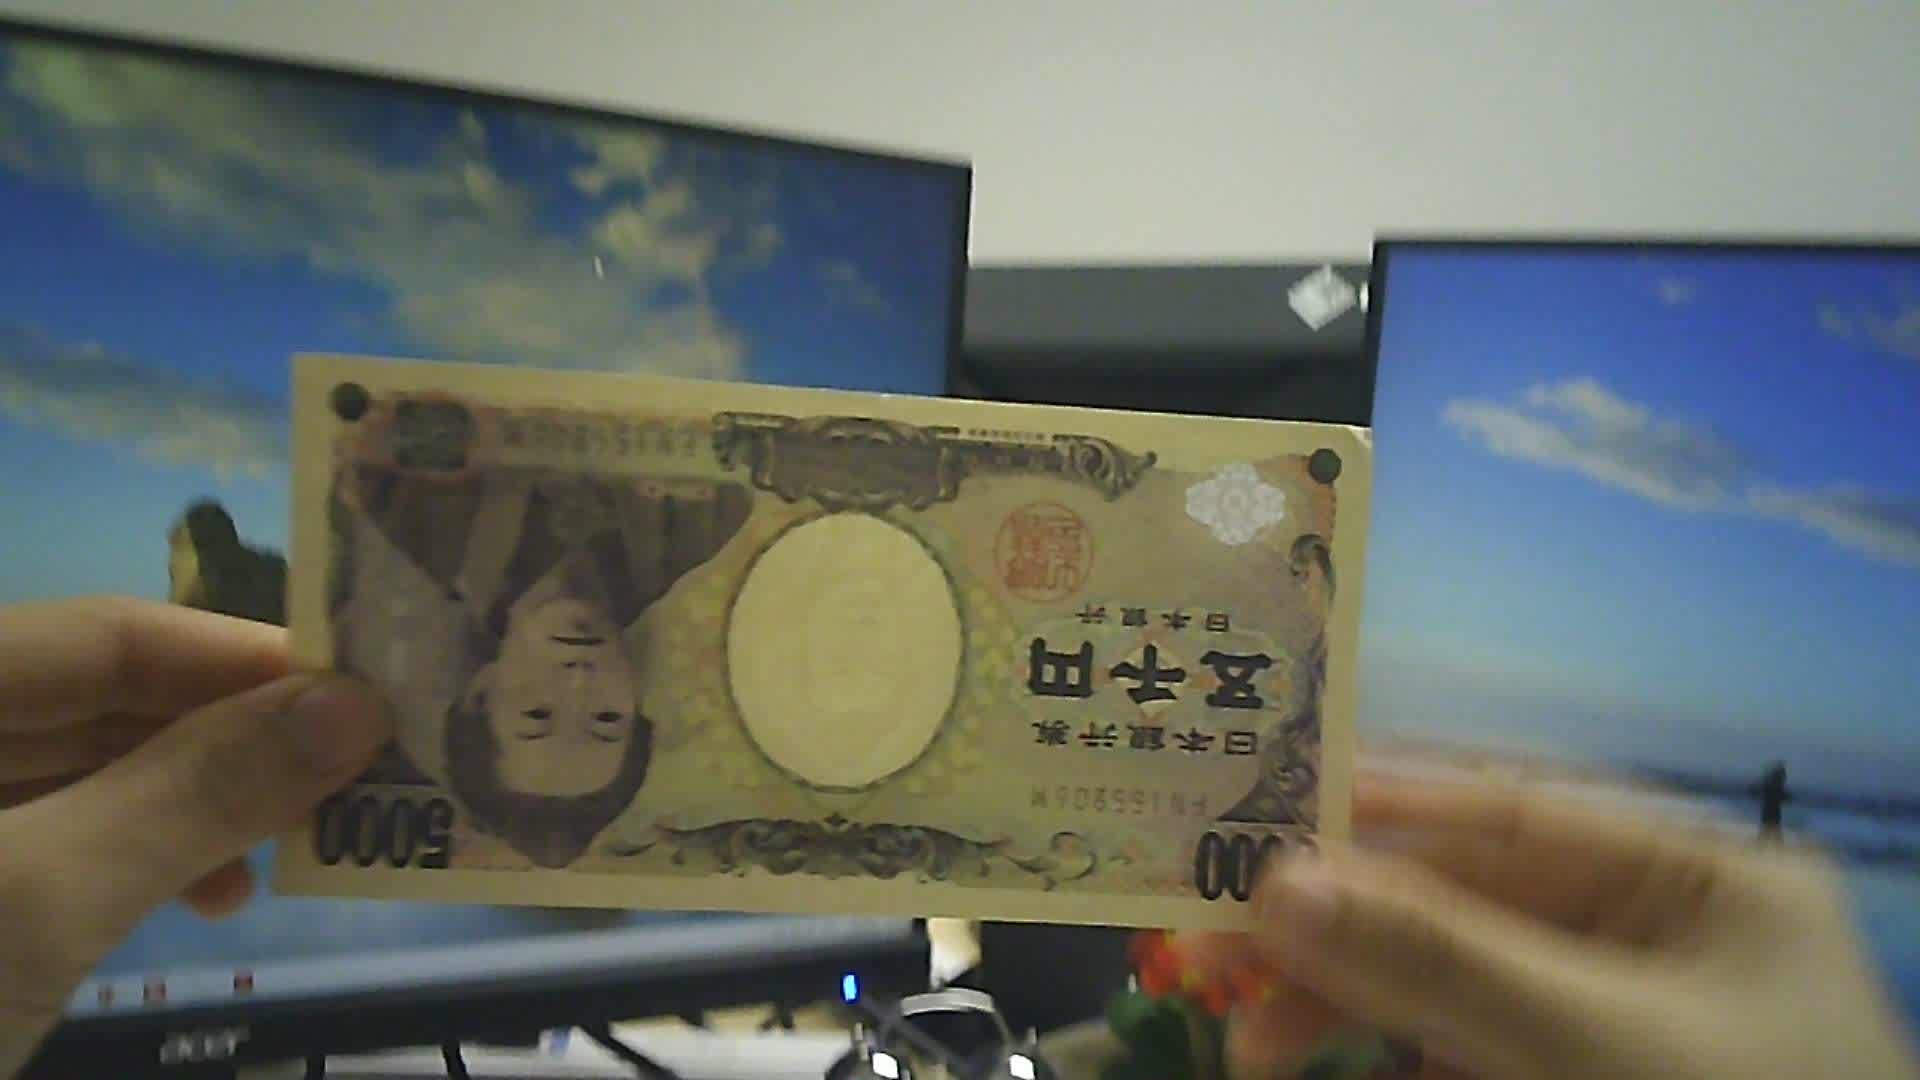5,000 Yen: (270, 353, 1364, 959)
